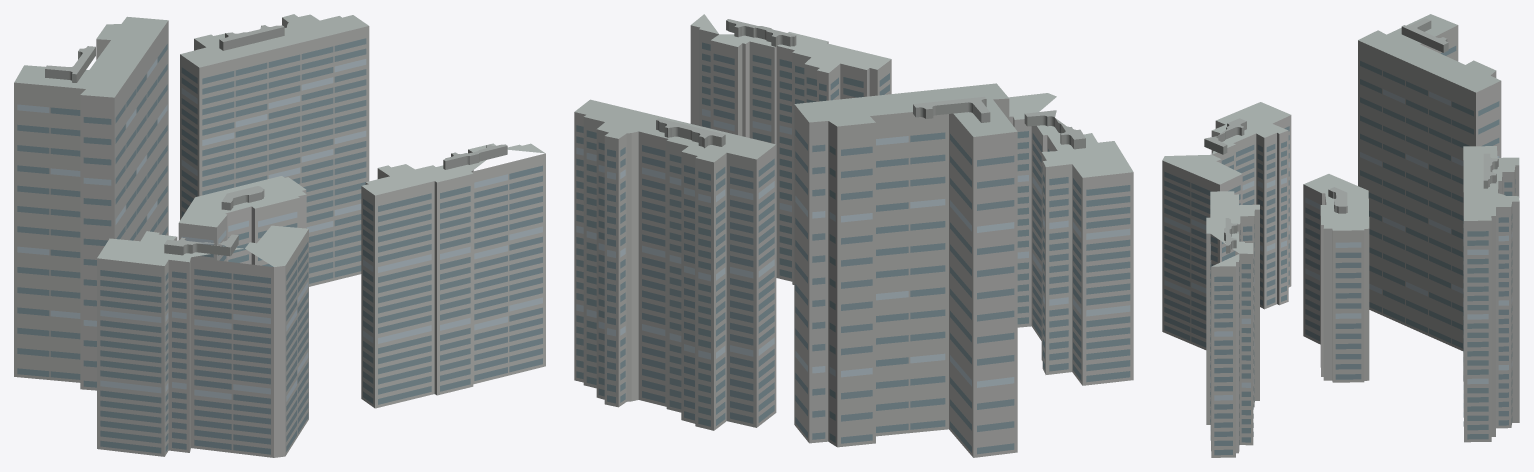
The model's file is apt-a10023952.glb.
3 renders of one model, left to right at view 1: azimuth 30°, elevation 25°; view 2: azimuth 150°, elevation 25°; view 3: azimuth 270°, elevation 25°, orthographic. The views are drawn at different scales.
Visible parts, largest first — view 1: apt-a10023952; view 2: apt-a10023952; view 3: apt-a10023952.
Boxes of the visible parts, bbox=[...] form: apt-a10023952: bbox=[14, 14, 545, 457]; apt-a10023952: bbox=[574, 14, 1133, 457]; apt-a10023952: bbox=[1162, 14, 1519, 457].
Size of the model in its own units: 119 by 82 by 97.52.
